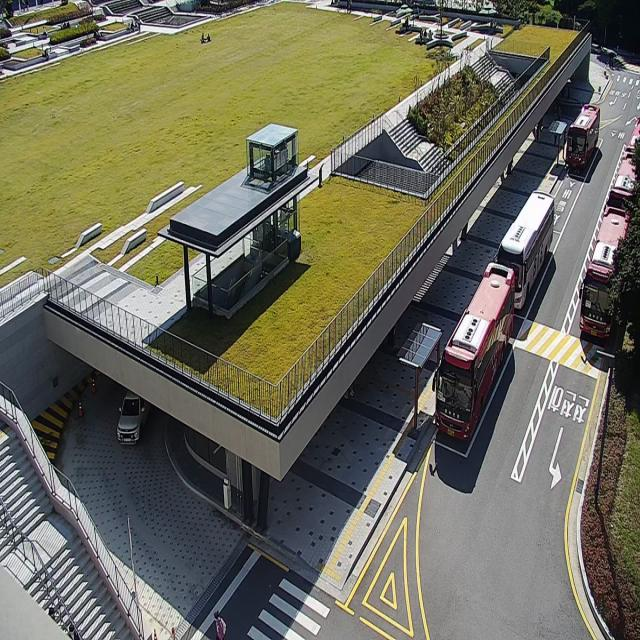queue: (412, 329, 442, 438)
